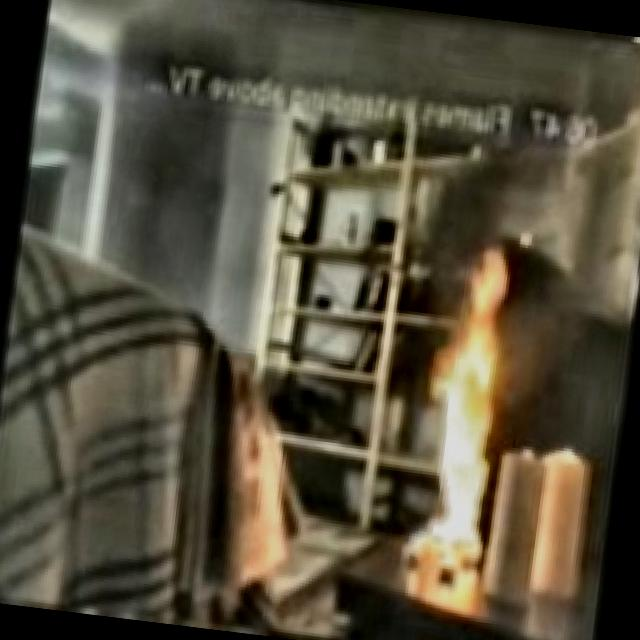fire: (374, 218, 577, 601)
